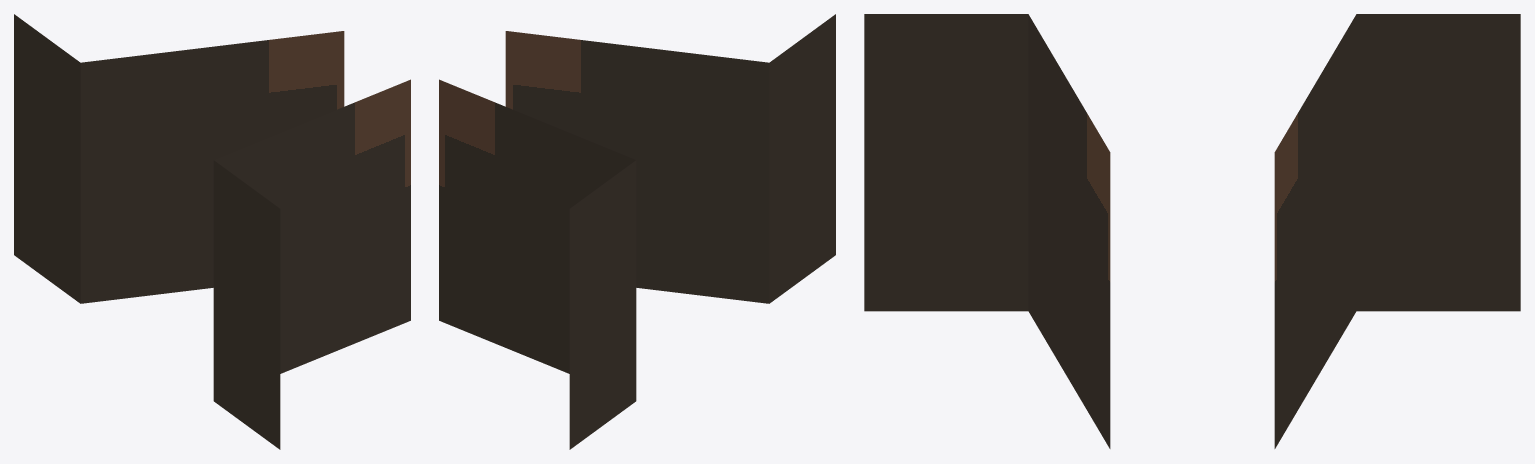
The picture shows the model from 3 angles, left to right: view 1: azimuth 30°, elevation 25°; view 2: azimuth 150°, elevation 25°; view 3: azimuth 270°, elevation 25°; orthographic projection. The views are drawn at different scales.
Bounding box in the file's own units: 0.5 × 0.5 × 1.
1 material, 1 textured.
